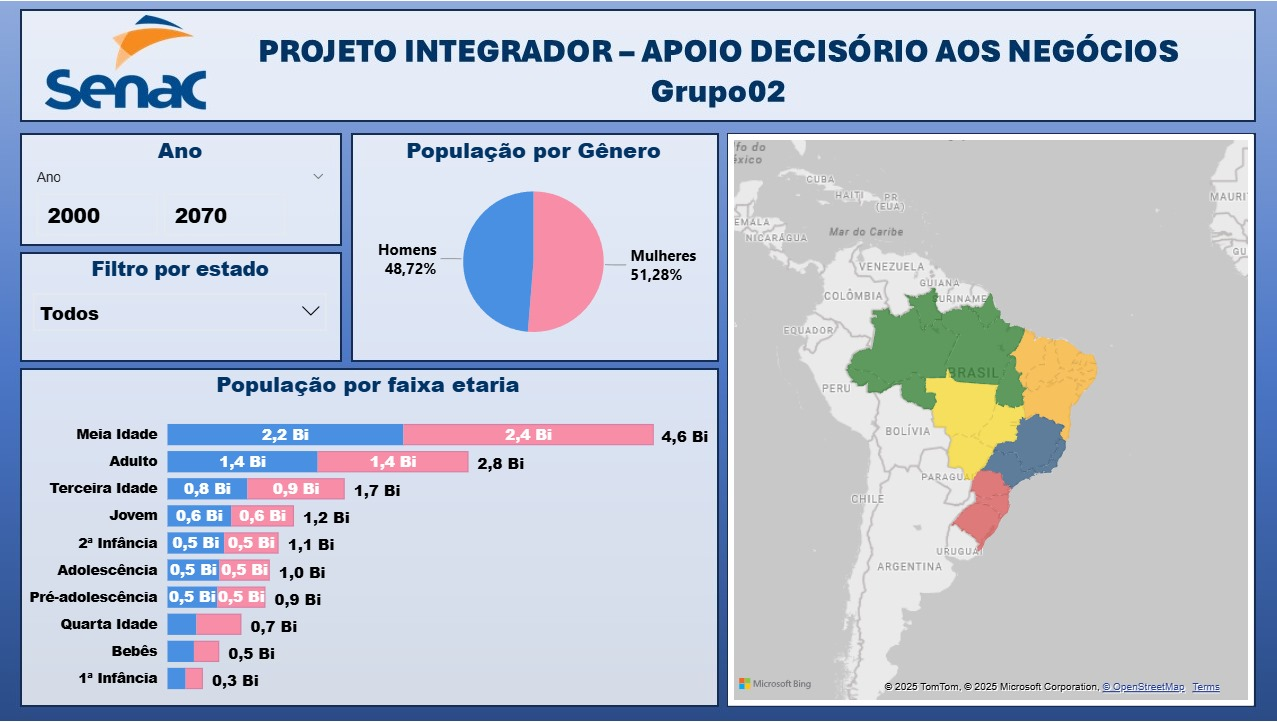

This screenshot's page, from the dashboard's own definition file:
{"tool":"powerbi","page":{"name":"Página 1","canvas":[1280,720],"ordinal":0},"visuals":[{"type":"pieChart","title":"População por Gênero","fields":{"Category":["projecoes_2024_tab1_idade_simples (2).Sexo"],"Y":["Sum(projecoes_2024_tab1_idade_simples (2).População)"]},"box":[387.5,160.5,320.1,199.5],"z":0},{"type":"slicer","title":"Ano","fields":{"Values":["projecoes_2024_tab1_idade_simples (2).Ano.Variation.Hierarquia de datas.Ano"]},"box":[94,160.5,280.2,100.2],"z":1000},{"type":"filledMap","fields":{"Category":["projecoes_2024_tab1_idade_simples (2).Região"]},"box":[720,160.5,466.4,507.2],"z":2000},{"type":"slicer","title":"Filtro por estado","fields":{"Values":["projecoes_2024_tab1_idade_simples (2).Estado"]},"box":[94.3,267.5,280.1,92.5],"z":3000},{"type":"barChart","title":"População por faixa etaria","fields":{"Category":["projecoes_2024_tab1_idade_simples (2).FaixaEtaria"],"Y":["Sum(projecoes_2024_tab1_idade_simples (2).População)"],"Series":["projecoes_2024_tab1_idade_simples (2).Sexo"]},"box":[94,368,613.6,299.7],"z":4000}]}

Visuals, with their boxes in screenshot pixels (x1, y1, x2, y2), scaled from the page's 1280x720 canvas onto the 1277x722 screenshot:
"População por Gênero" pieChart: x1=387 y1=161 x2=706 y2=361
"Ano" slicer: x1=94 y1=161 x2=373 y2=261
filledMap - projecoes_2024_tab1_idade_simples (2).Região: x1=718 y1=161 x2=1184 y2=670
"Filtro por estado" slicer: x1=94 y1=268 x2=374 y2=361
"População por faixa etaria" barChart: x1=94 y1=369 x2=706 y2=670
